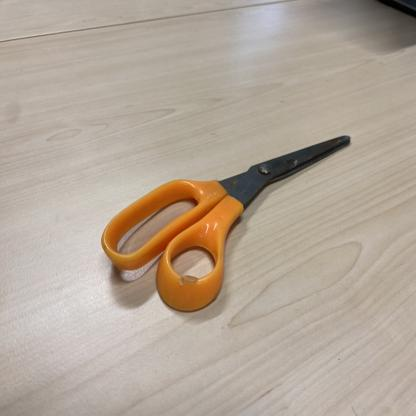scissors: (101, 134, 352, 312)
